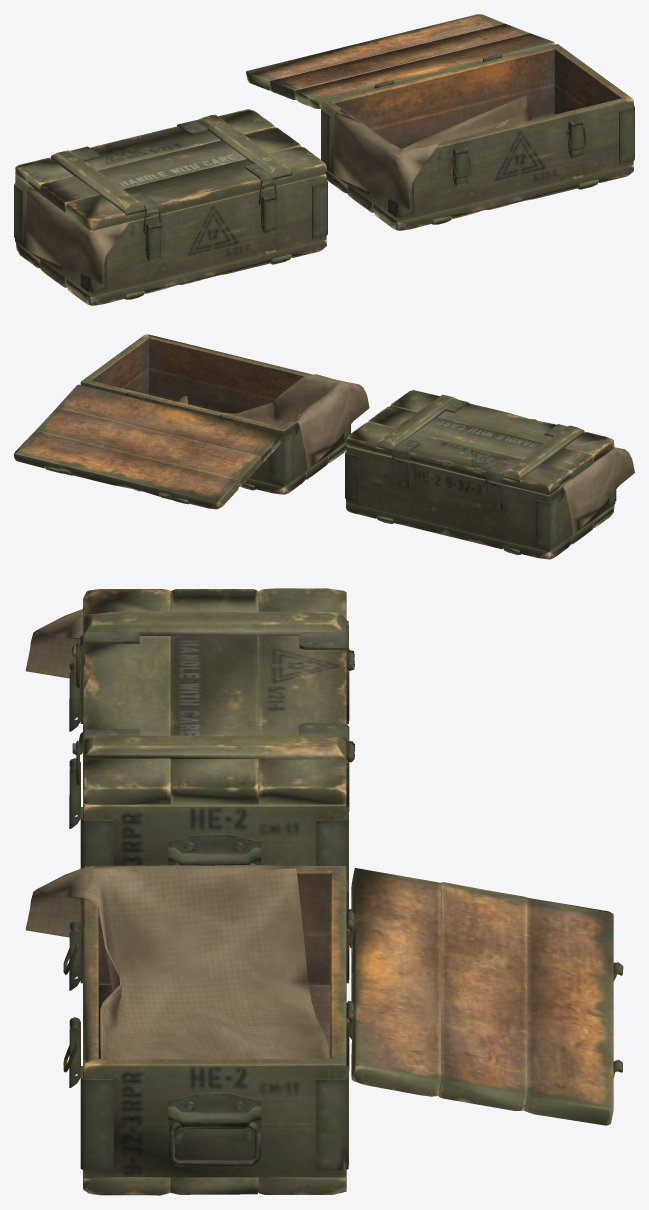
Rendered from old_military_crate.glb.
3 renders of one model, top to bottom at view 1: azimuth 30°, elevation 25°; view 2: azimuth 150°, elevation 25°; view 3: azimuth 270°, elevation 25°, orthographic. The views are drawn at different scales.
Parts seen in each view (by area): view 1: old_military_crate_b, old_military_crate_lid_a, old_military_crate_a, old_military_crate_lid_b, old_military_crate_cloth_b, old_military_crate_cloth_a, old_military_crate_latch_a, old_military_crate_latch_b; view 2: old_military_crate_lid_b, old_military_crate_lid_a, old_military_crate_a, old_military_crate_b, old_military_crate_cloth_b, old_military_crate_cloth_a; view 3: old_military_crate_lid_a, old_military_crate_lid_b, old_military_crate_b, old_military_crate_cloth_b, old_military_crate_a, old_military_crate_cloth_a, old_military_crate_latch_b, old_military_crate_latch_a.
Part boxes in pixels (bbox=[...]): old_military_crate_b: bbox=[321, 44, 634, 230]; old_military_crate_lid_a: bbox=[15, 109, 326, 230]; old_military_crate_a: bbox=[14, 174, 327, 305]; old_military_crate_lid_b: bbox=[246, 14, 554, 109]; old_military_crate_cloth_b: bbox=[333, 95, 531, 209]; old_military_crate_cloth_a: bbox=[25, 187, 129, 284]; old_military_crate_latch_a: bbox=[145, 194, 276, 261]; old_military_crate_latch_b: bbox=[453, 119, 583, 186]; old_military_crate_lid_b: bbox=[14, 384, 282, 509]; old_military_crate_lid_a: bbox=[346, 390, 614, 495]; old_military_crate_a: bbox=[345, 445, 616, 559]; old_military_crate_b: bbox=[80, 334, 350, 494]; old_military_crate_cloth_b: bbox=[176, 374, 369, 470]; old_military_crate_cloth_a: bbox=[562, 447, 634, 535]; old_military_crate_lid_a: bbox=[72, 588, 354, 805]; old_military_crate_lid_b: bbox=[346, 868, 623, 1125]; old_military_crate_b: bbox=[80, 866, 354, 1195]; old_military_crate_cloth_b: bbox=[25, 865, 329, 1058]; old_military_crate_a: bbox=[80, 620, 354, 883]; old_military_crate_cloth_a: bbox=[25, 609, 82, 678]; old_military_crate_latch_b: bbox=[69, 920, 80, 1087]; old_military_crate_latch_a: bbox=[69, 661, 80, 828].
Size of the model in its own units: 1.81 by 0.3009 by 0.9753.
Materials: 1 (1 with a texture image).
